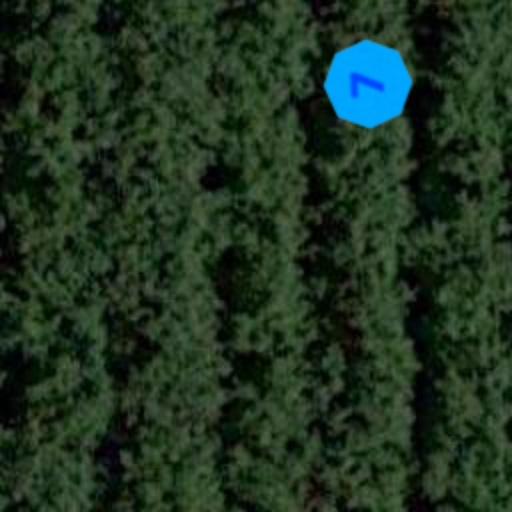octagon: (320, 36, 416, 132)
